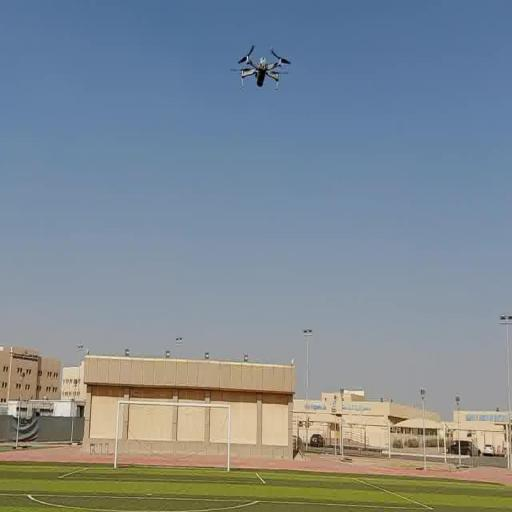drone: (230, 42, 293, 91)
